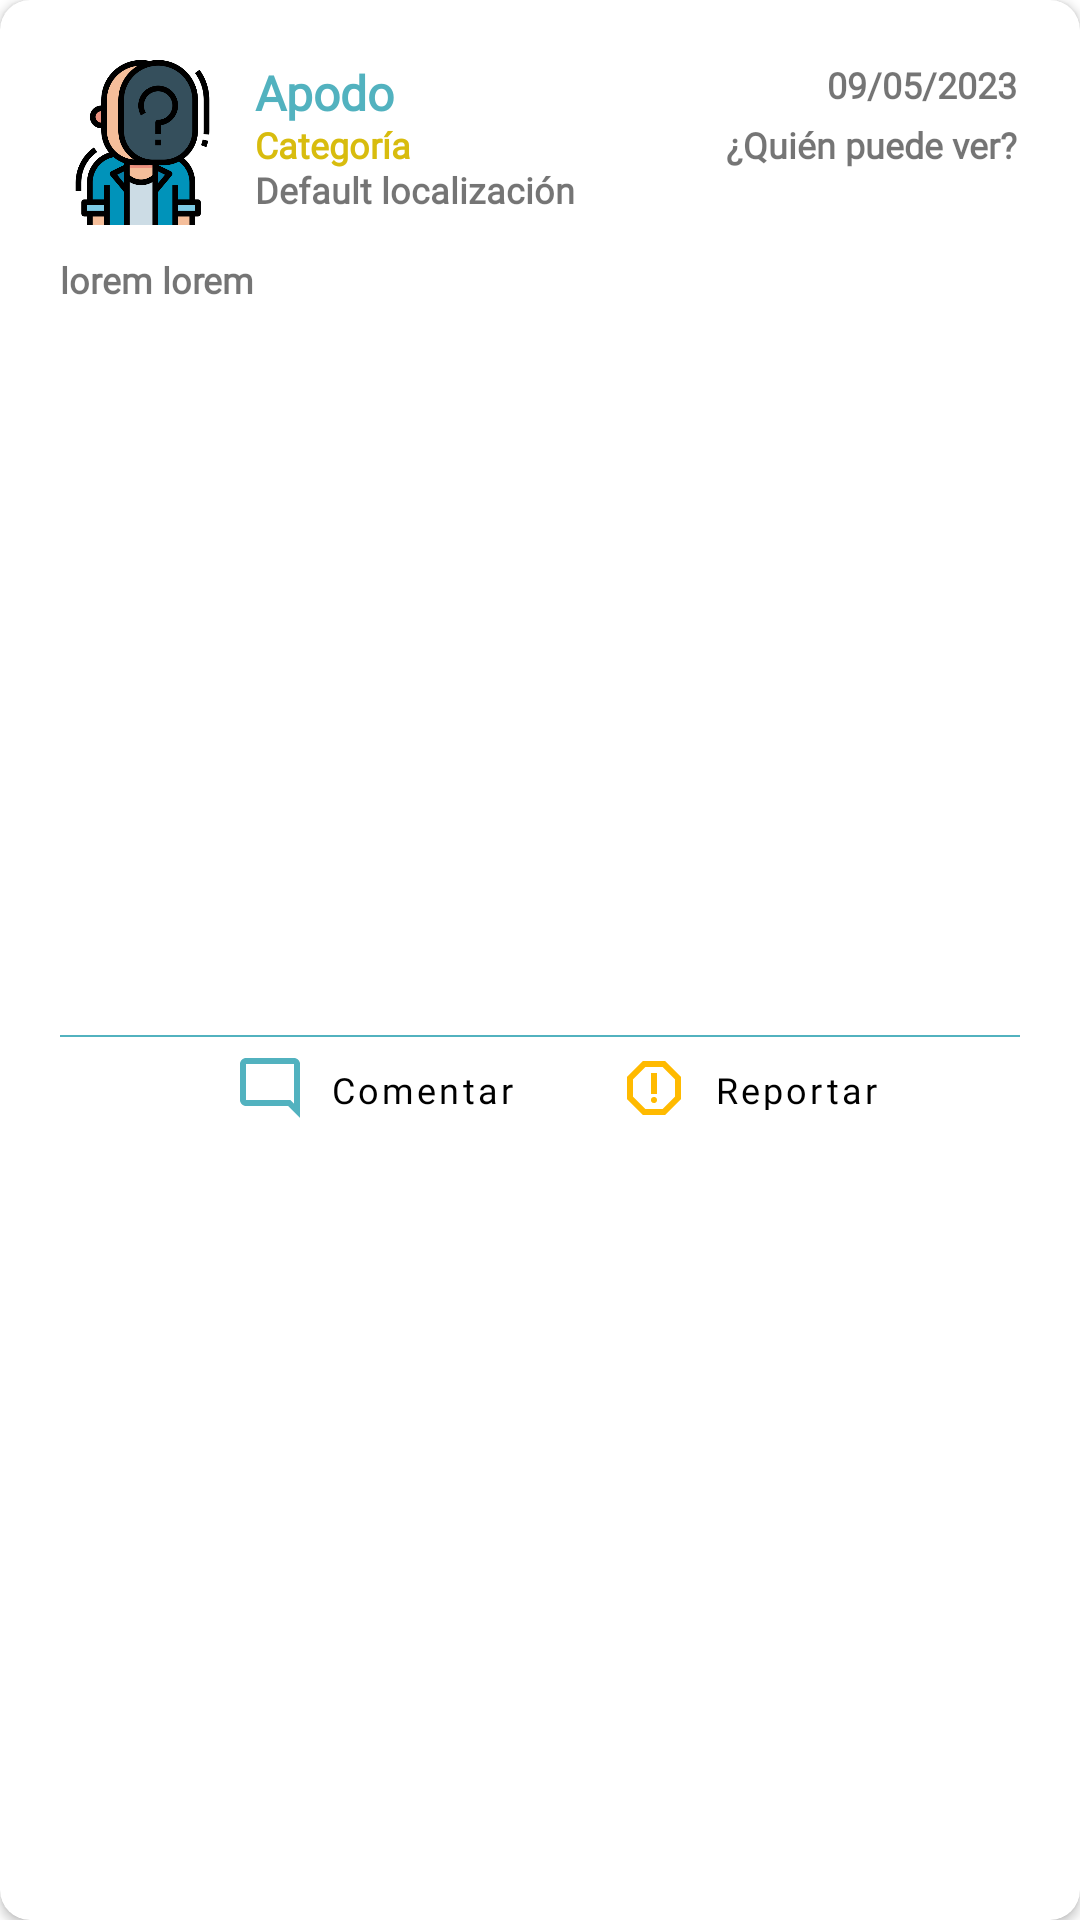

Named icons in this screenshot (1080×1920) and their centers, [x,y]:
anonimo: [142,142]
